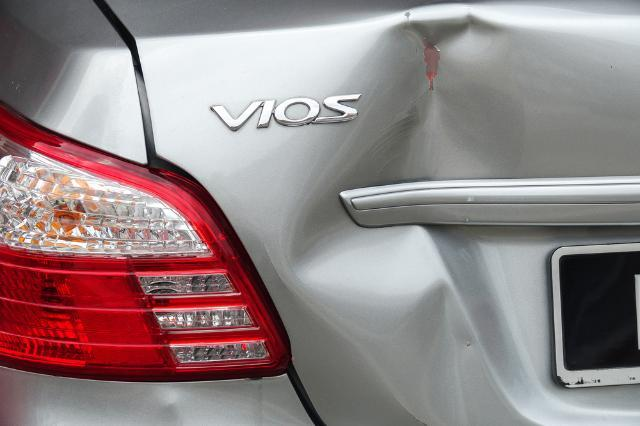dent: (282, 6, 529, 426)
